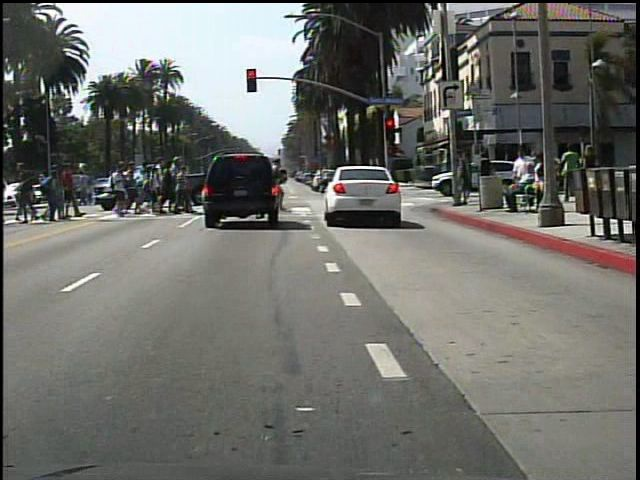person: (502, 160, 537, 215)
